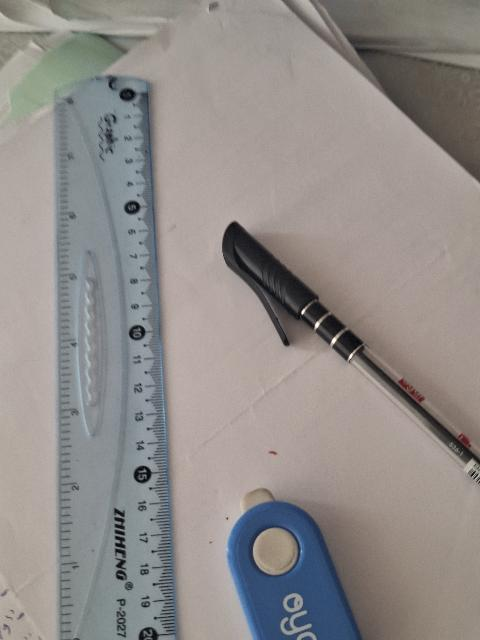writing_tool: (218, 220, 480, 490)
